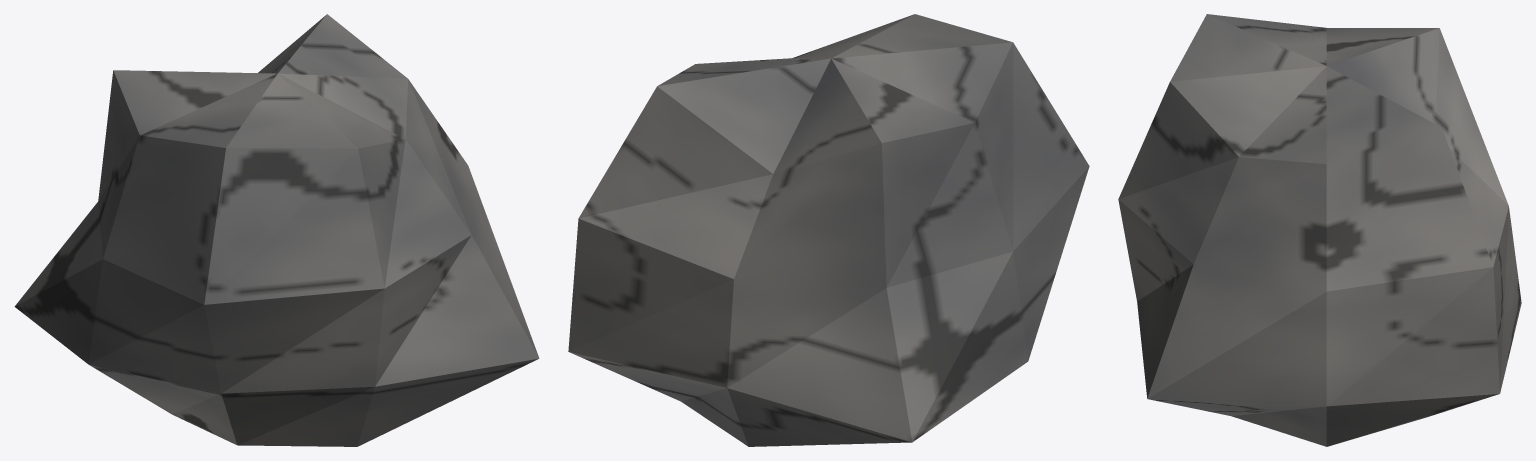
Rendered from rock1.obj.
3 views of the same model, side by side, from view 1: azimuth 30°, elevation 25°; view 2: azimuth 150°, elevation 25°; view 3: azimuth 270°, elevation 25° (orthographic). The views are drawn at different scales.
Parts seen in each view (by area): view 1: Rock1; view 2: Rock1; view 3: Rock1.
Boxes of the visible parts, <box> form: Rock1: <box>14,14,539,446</box>; Rock1: <box>568,14,1089,446</box>; Rock1: <box>1118,14,1521,446</box>.
Bounding box in the file's own units: 1.51 × 1.15 × 1.37.
Materials: 1 (1 with a texture image).
